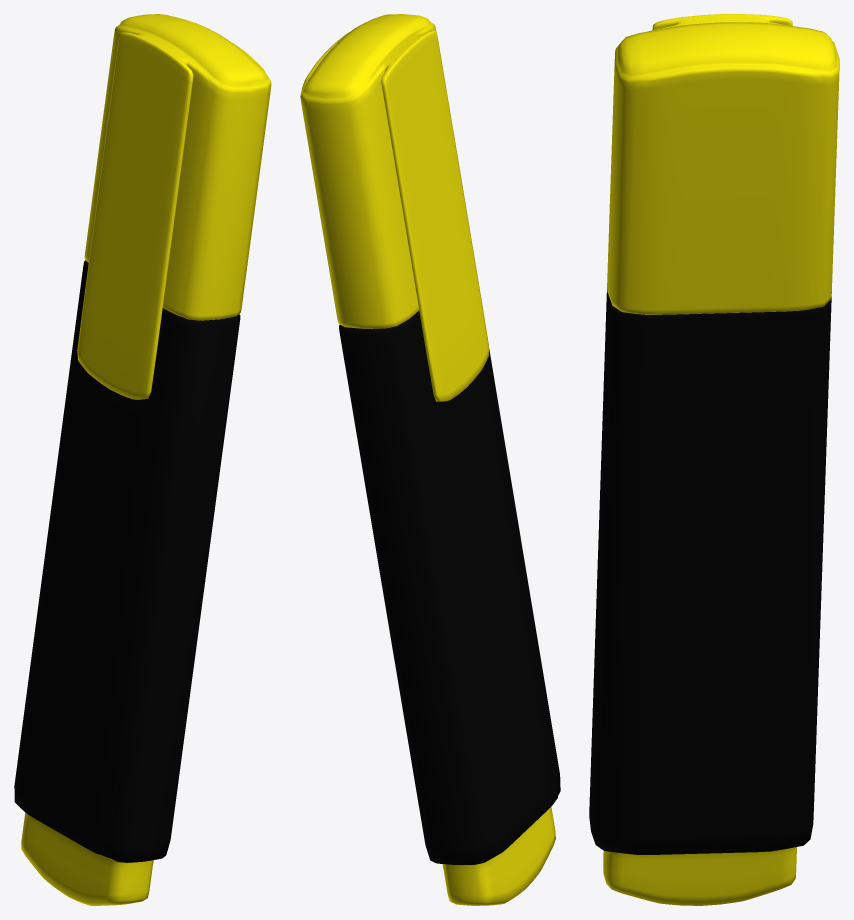
Rendered from Subrayador.fbx.
The picture shows the model from 3 angles, left to right: view 1: azimuth 30°, elevation 25°; view 2: azimuth 150°, elevation 25°; view 3: azimuth 270°, elevation 25°; orthographic projection. The views are drawn at different scales.
Parts seen in each view (by area): view 1: marker yelow; view 2: marker yelow; view 3: marker yelow.
Boxes of the visible parts, x1=… form: marker yelow: x1=14, y1=14, x2=271, y2=905; marker yelow: x1=300, y1=14, x2=560, y2=905; marker yelow: x1=589, y1=14, x2=839, y2=905.
Size of the model in its own units: 0.5059 by 2.11 by 0.5136.
